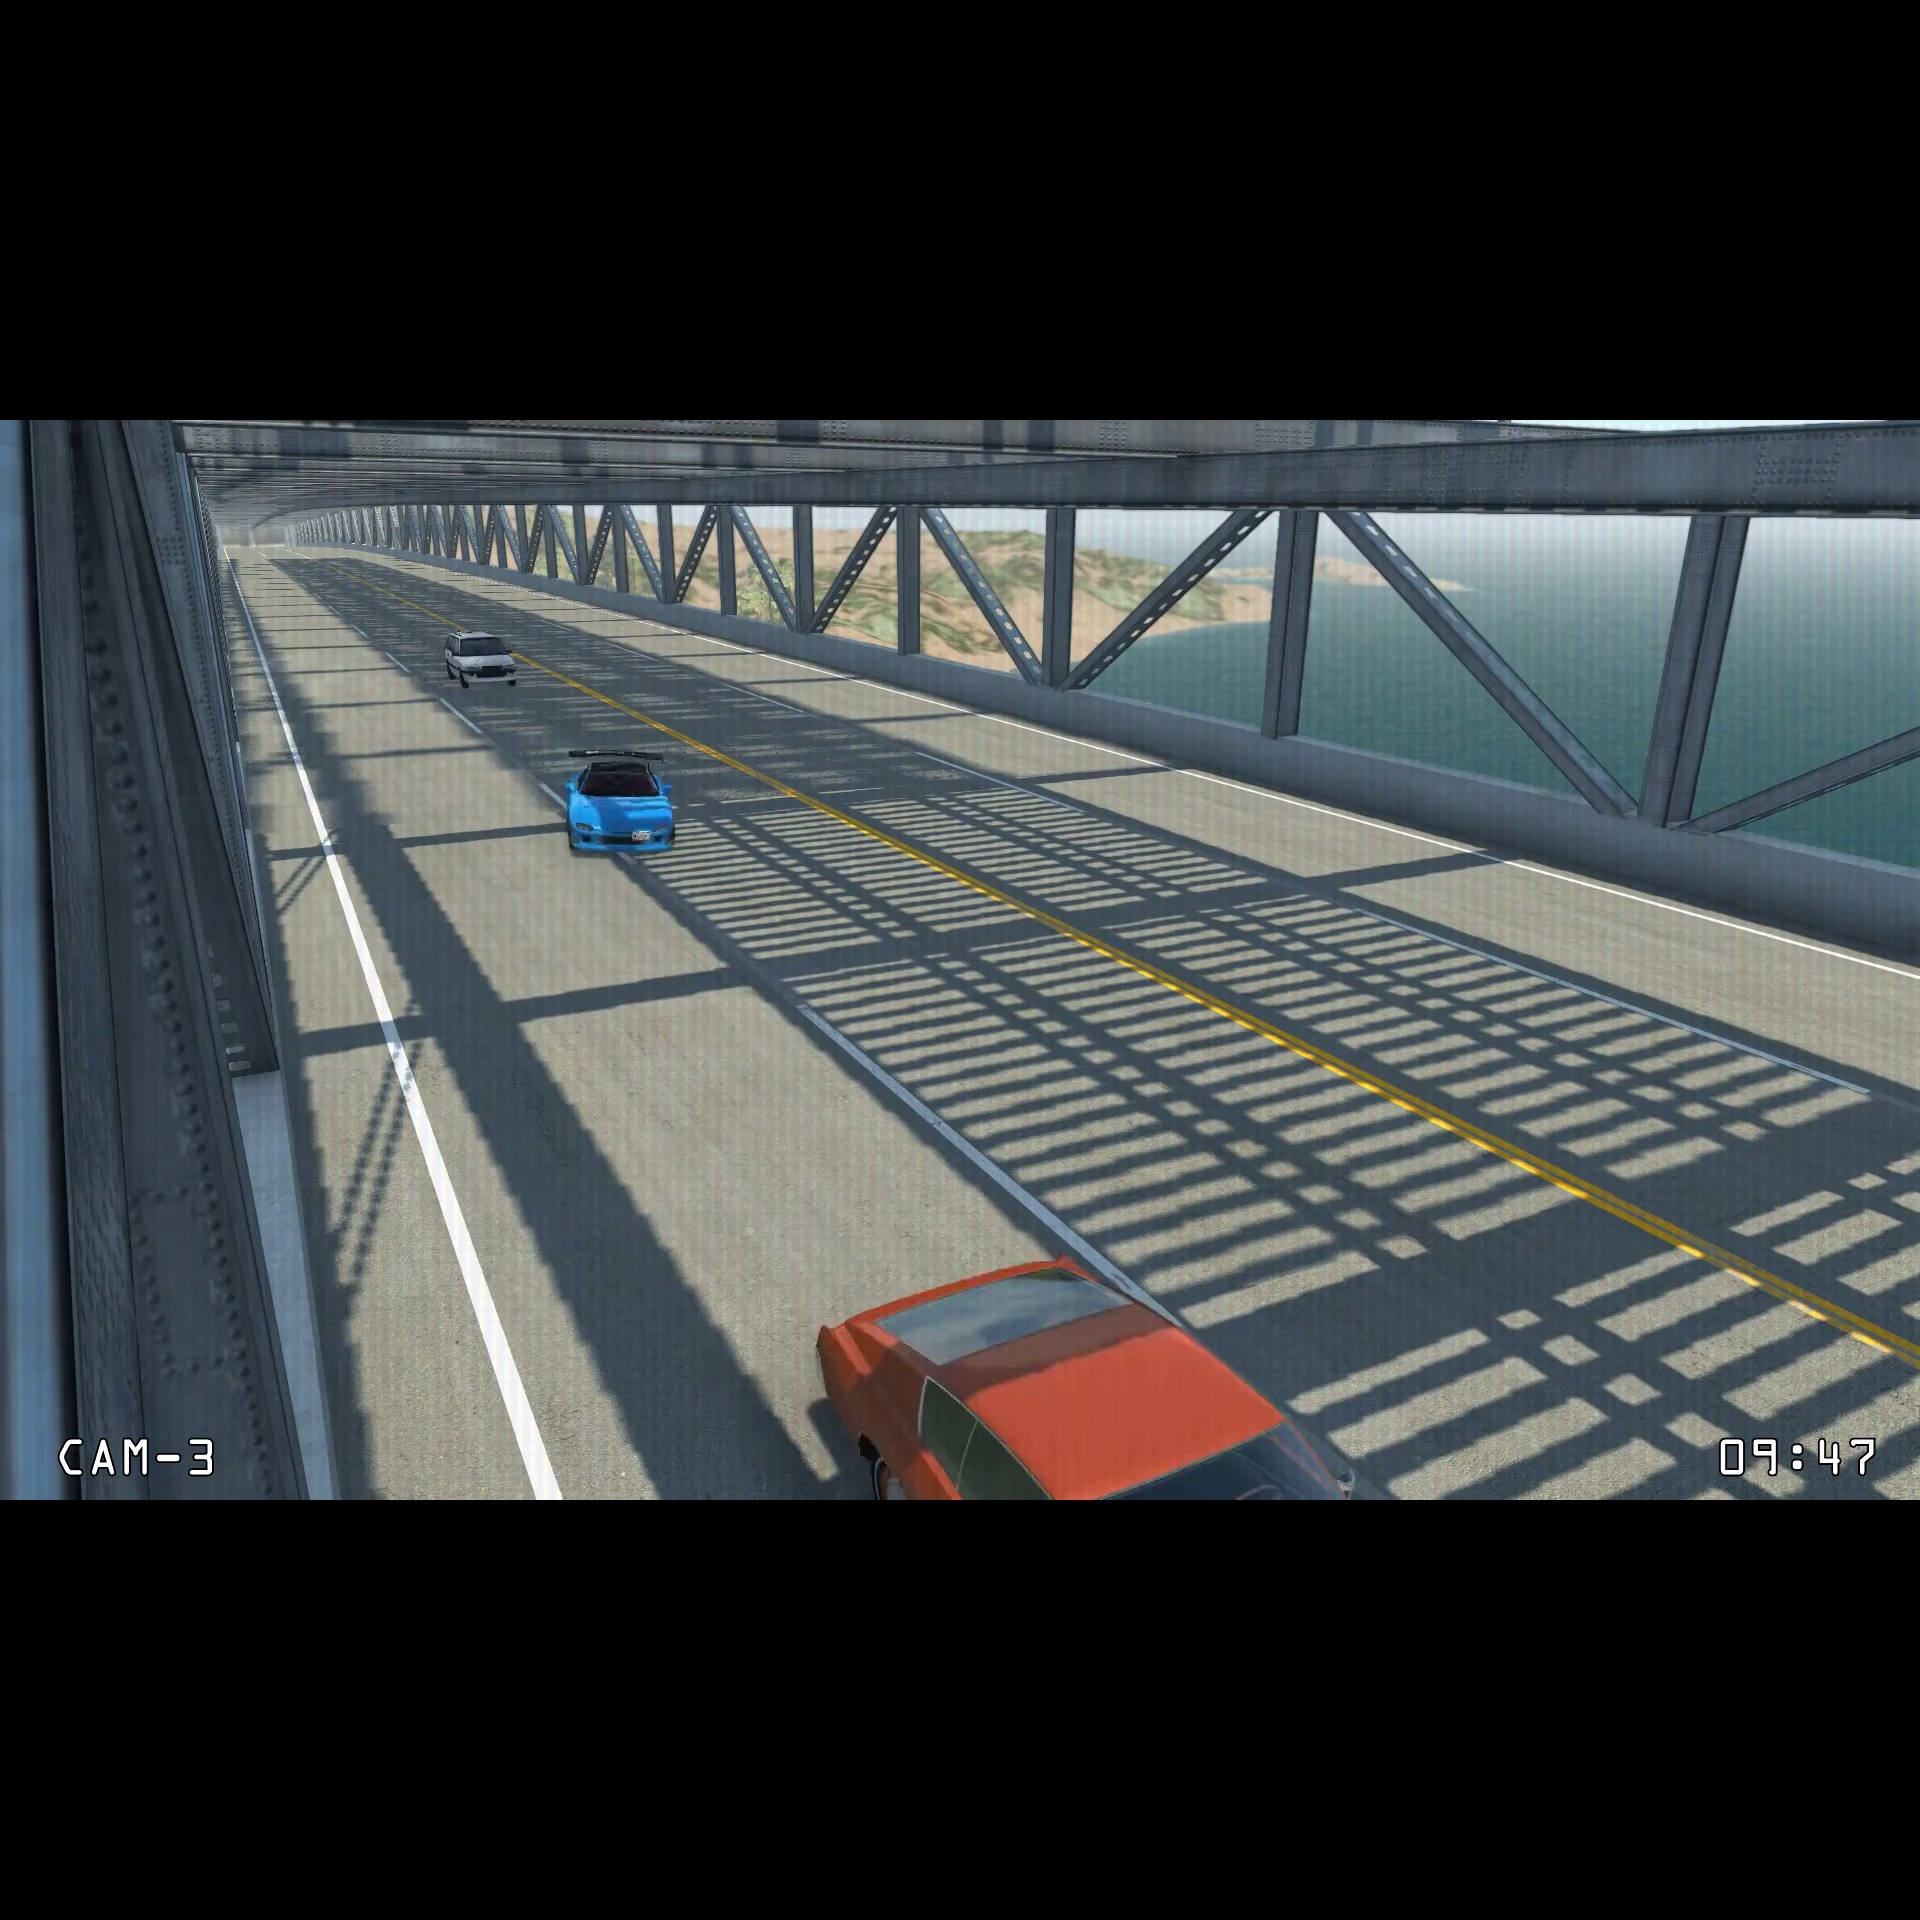vehicle: (807, 1236, 1417, 1498), (547, 738, 687, 856), (438, 622, 526, 695)
